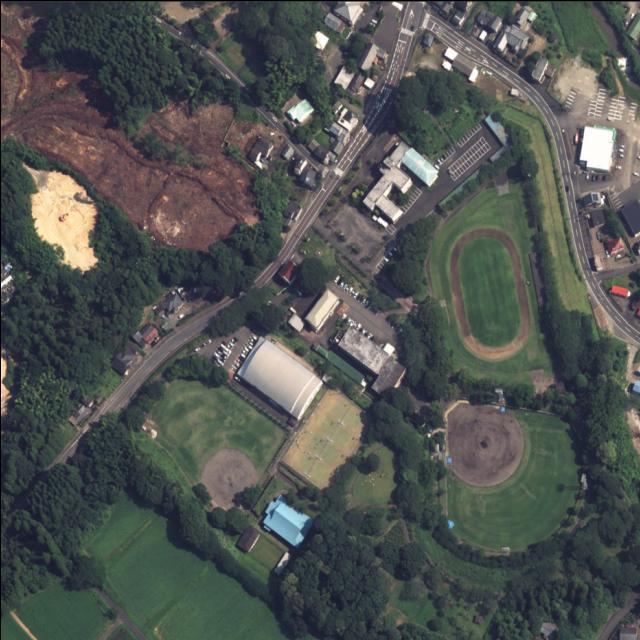landslide: (0, 1, 255, 248), (23, 164, 96, 270)
